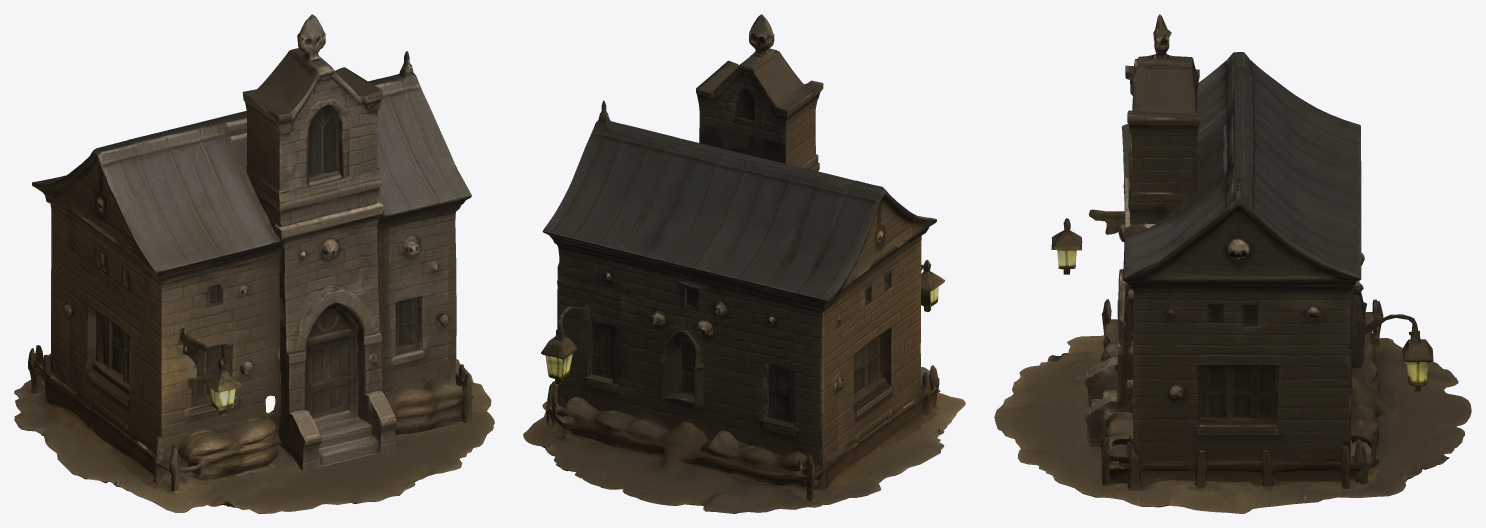
3 renders of one model, left to right at view 1: azimuth 30°, elevation 25°; view 2: azimuth 150°, elevation 25°; view 3: azimuth 270°, elevation 25°, orthographic. The views are drawn at different scales.
Visible parts, largest first — view 1: Building; view 2: Building; view 3: Building.
Part boxes in pixels (x1,y1,x2,y2): Building: (14, 14, 494, 513); Building: (523, 14, 965, 513); Building: (994, 14, 1471, 513).
Size of the model in its own units: 10.55 by 10.69 by 11.
Materials: 1 (1 with a texture image).
